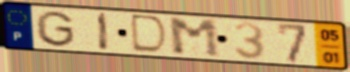3: (232, 20, 266, 62)
7: (276, 21, 309, 65)
D: (130, 13, 171, 56)
G: (34, 9, 77, 48)
I: (97, 11, 112, 53)
M: (166, 17, 223, 60)
